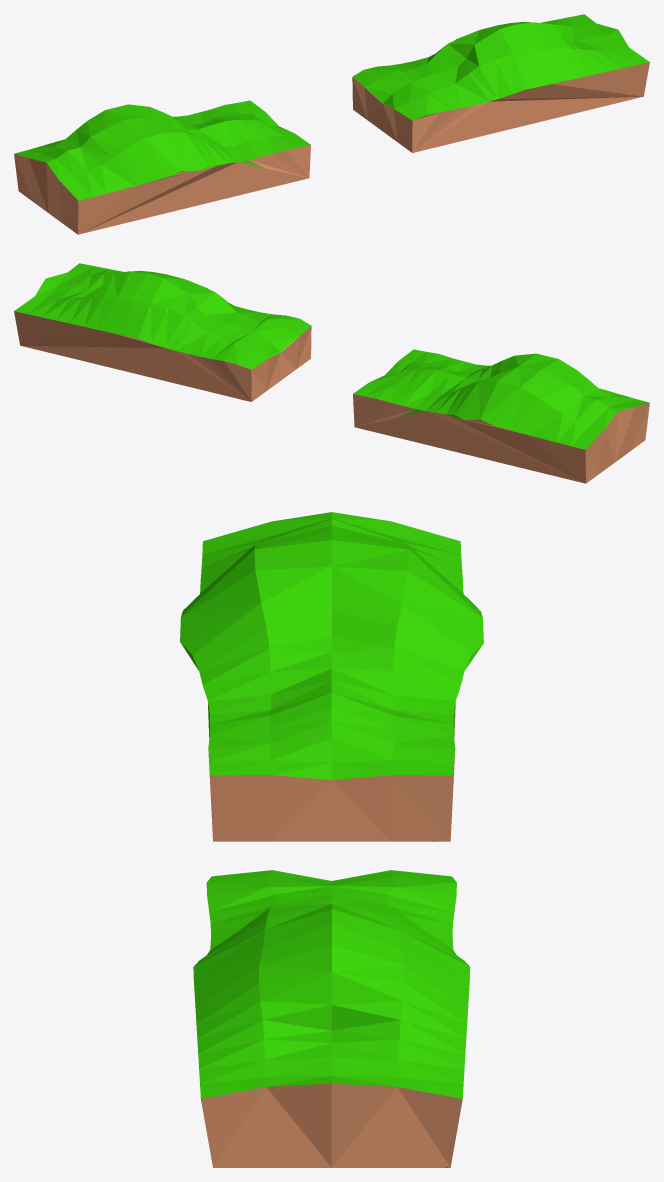
Rendered from OutArea.fbx.
The picture shows the model from 3 angles, top to bottom: view 1: azimuth 30°, elevation 25°; view 2: azimuth 150°, elevation 25°; view 3: azimuth 270°, elevation 25°; orthographic projection. The views are drawn at different scales.
Visible parts, largest first — view 1: BackArea; view 2: BackArea; view 3: BackArea.
Boxes of the visible parts, x1=… form: BackArea: x1=14, y1=14, x2=649, y2=234; BackArea: x1=14, y1=263, x2=649, y2=483; BackArea: x1=180, y1=512, x2=483, y2=1167.
Bounding box in the file's own units: 1117 × 138 × 256.
1 material, 1 textured.
